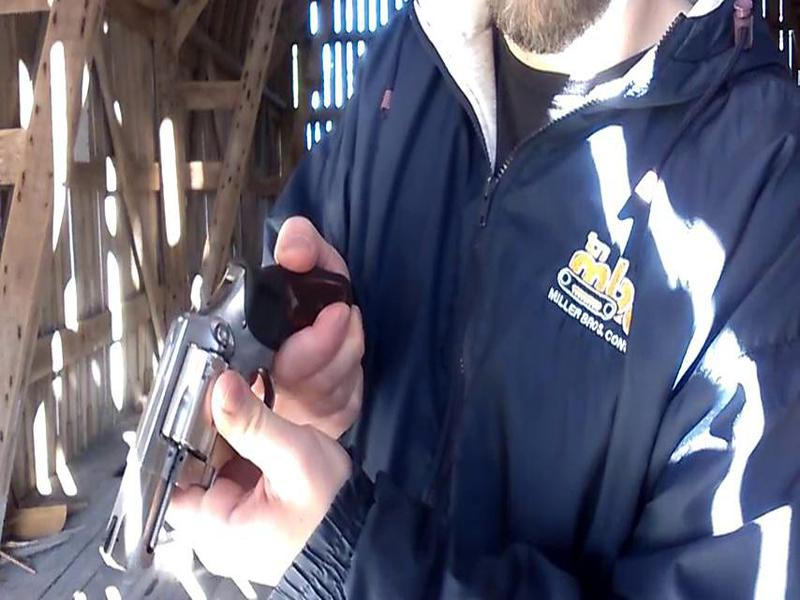Revolver: (85, 237, 366, 579)
